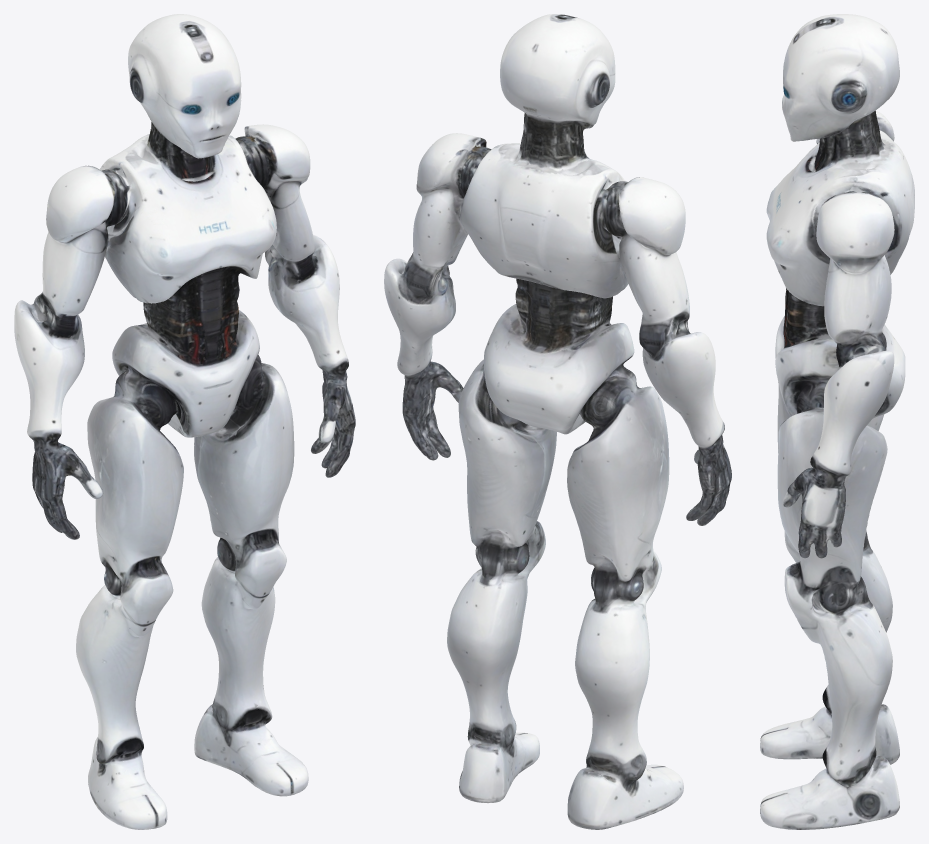
The model's file is humanoid_robot_ai.glb.
3 renders of one model, left to right at view 1: azimuth 30°, elevation 25°; view 2: azimuth 150°, elevation 25°; view 3: azimuth 270°, elevation 25°, orthographic.
Visible parts, largest first — view 1: Object_4, Object_5; view 2: Object_4, Object_5; view 3: Object_4, Object_5.
Boxes of the visible parts, box(x1,y1,x2,y2) form: Object_4: box(14, 14, 355, 718); Object_5: box(14, 15, 339, 829); Object_4: box(384, 14, 724, 745); Object_5: box(384, 23, 731, 829); Object_4: box(766, 14, 914, 786); Object_5: box(760, 14, 914, 829).
Size of the model in its own units: 0.867 by 2 by 0.3672.
1 material, 1 textured.
